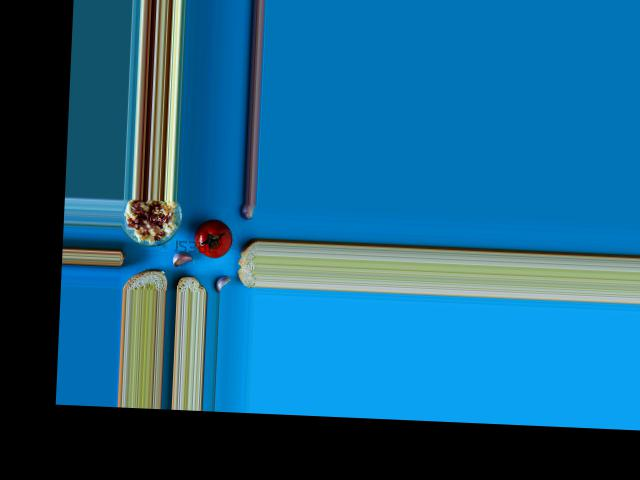tomato: (195, 218, 233, 258)
